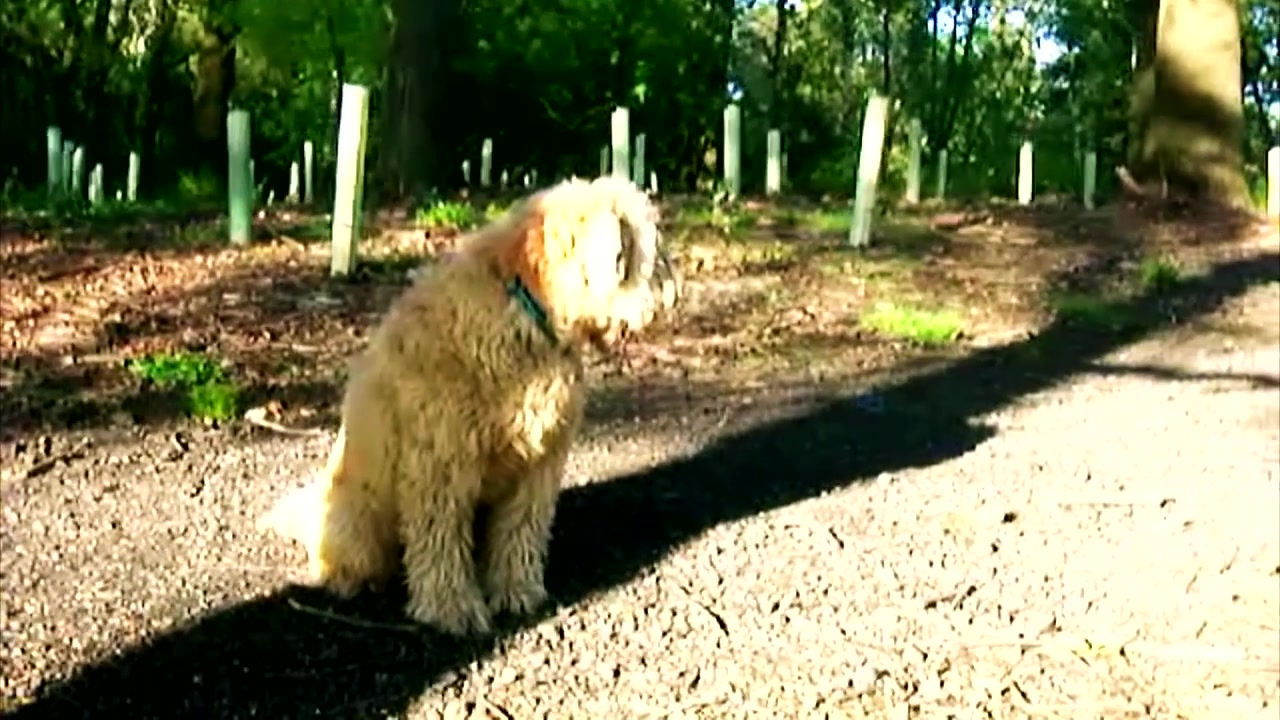dog: (256, 169, 684, 634)
